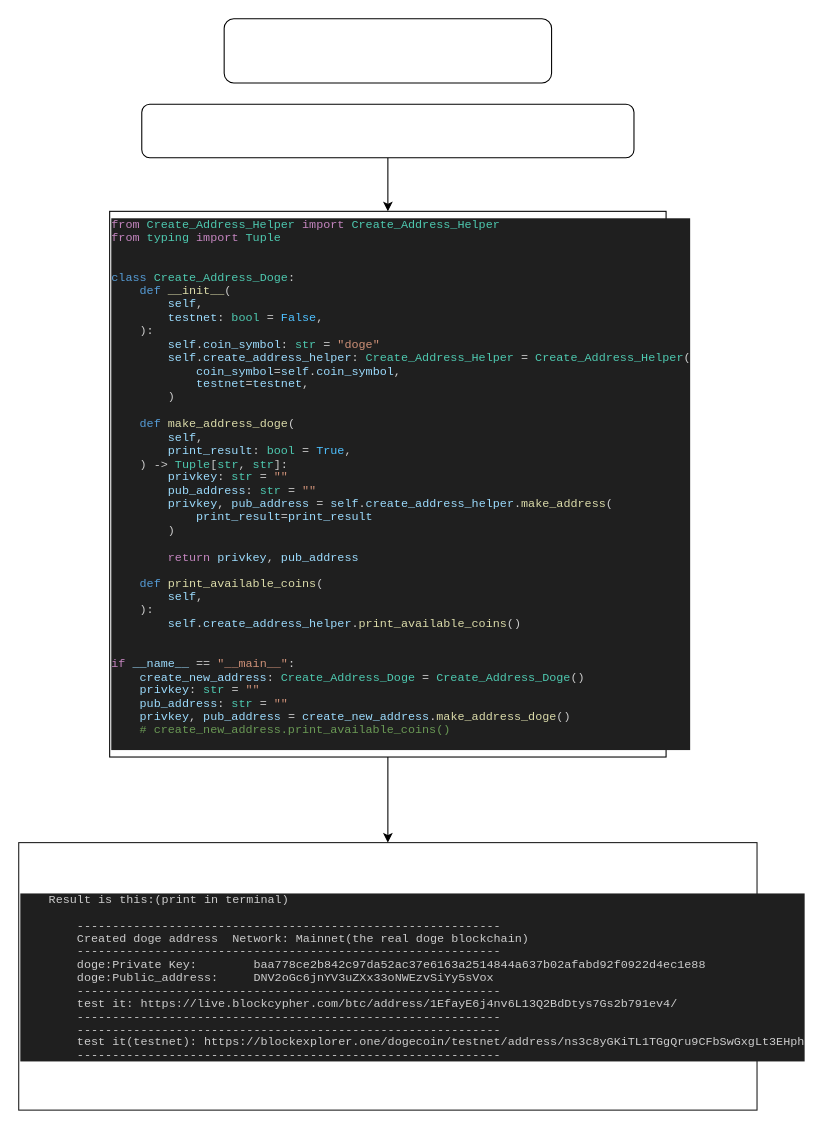
This 824x1129 diagram has some shape labels left out. The shapes that lost their labels are listed below. From the top down, each one's centre as x and y in pixels, then its label:
At point 387,50: "Create_Address_Doge".
At point 387,130: "to create a doge coin address with private key run Create_Address_Doge.py".
